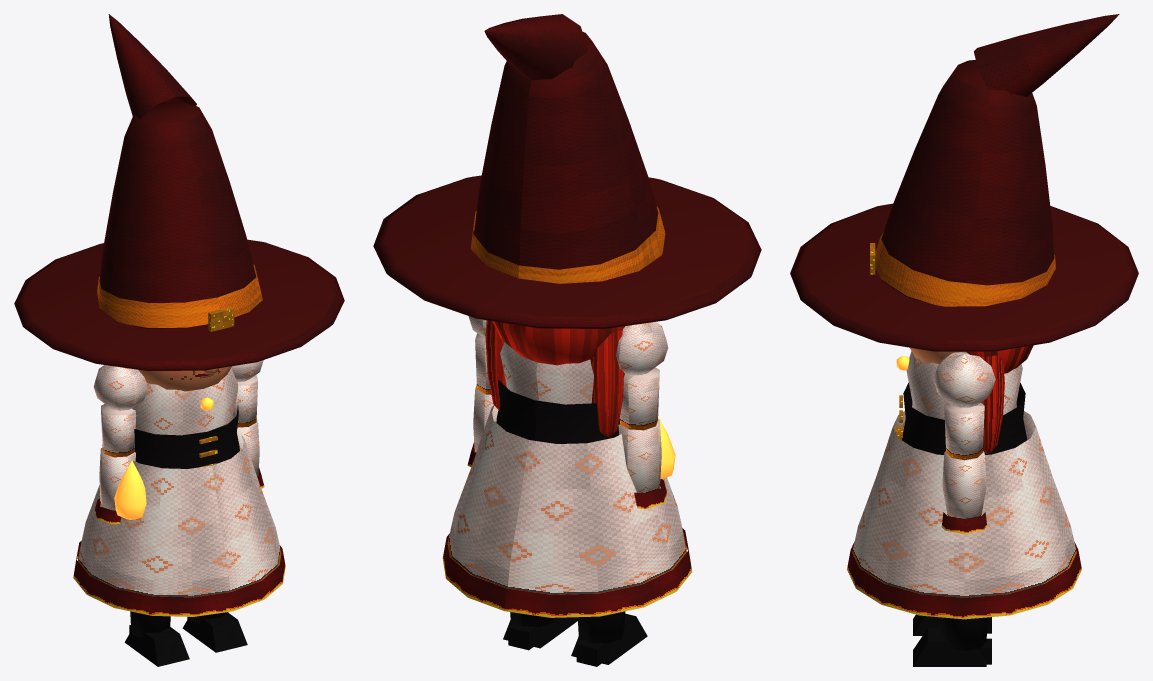
File: feuer.glb
The picture shows the model from 3 angles, left to right: view 1: azimuth 30°, elevation 25°; view 2: azimuth 150°, elevation 25°; view 3: azimuth 270°, elevation 25°; orthographic projection. The views are drawn at different scales.
Visible parts, largest first — view 1: hatCone, brim, skirt, hem, torso, hatBand, hatTip, corset, puff-1, boot-1, upper-1, boot1 (+7 smaller); view 2: hatCone, skirt, brim, hem, hatTip, corset, torso, hatBand, hairBack, braid-1, fore-1, puff-1 (+10 smaller); view 3: hatCone, skirt, brim, hatTip, hem, hatBand, corset, puff1, fore1, torso, upper1, boot1 (+4 smaller).
Part boxes in pixels (bbox=[...]): hatCone: bbox=[99, 101, 261, 329]; brim: bbox=[14, 239, 344, 370]; skirt: bbox=[78, 435, 281, 597]; hem: bbox=[73, 541, 285, 616]; torso: bbox=[132, 367, 237, 435]; hatBand: bbox=[97, 264, 262, 327]; hatTip: bbox=[108, 14, 196, 119]; corset: bbox=[134, 405, 239, 468]; puff-1: bbox=[93, 365, 147, 410]; boot-1: bbox=[124, 627, 189, 666]; upper-1: bbox=[101, 404, 136, 457]; boot1: bbox=[182, 613, 247, 652]; hatCone: bbox=[473, 32, 658, 269]; skirt: bbox=[447, 405, 686, 594]; brim: bbox=[373, 175, 761, 328]; hem: bbox=[442, 528, 691, 617]; hatTip: bbox=[484, 14, 587, 80]; corset: bbox=[496, 380, 619, 443]; torso: bbox=[500, 342, 593, 404]; hatBand: bbox=[470, 206, 665, 283]; hairBack: bbox=[492, 321, 624, 365]; braid-1: bbox=[590, 328, 624, 437]; fore-1: bbox=[618, 419, 661, 493]; puff-1: bbox=[616, 322, 668, 375]; hatCone: bbox=[881, 60, 1054, 302]; skirt: bbox=[852, 411, 1076, 597]; brim: bbox=[790, 203, 1138, 351]; hatTip: bbox=[974, 14, 1119, 96]; hem: bbox=[847, 542, 1081, 619]; hatBand: bbox=[875, 231, 1055, 306]; corset: bbox=[902, 383, 1027, 454]; puff1: bbox=[933, 352, 995, 407]; fore1: bbox=[942, 451, 986, 518]; torso: bbox=[906, 351, 1022, 419]; upper1: bbox=[944, 402, 984, 460]; boot1: bbox=[913, 628, 986, 666].
Size of the model in its own units: 1.97 by 3.79 by 1.9.
Materials: 14 (12 with a texture image).
